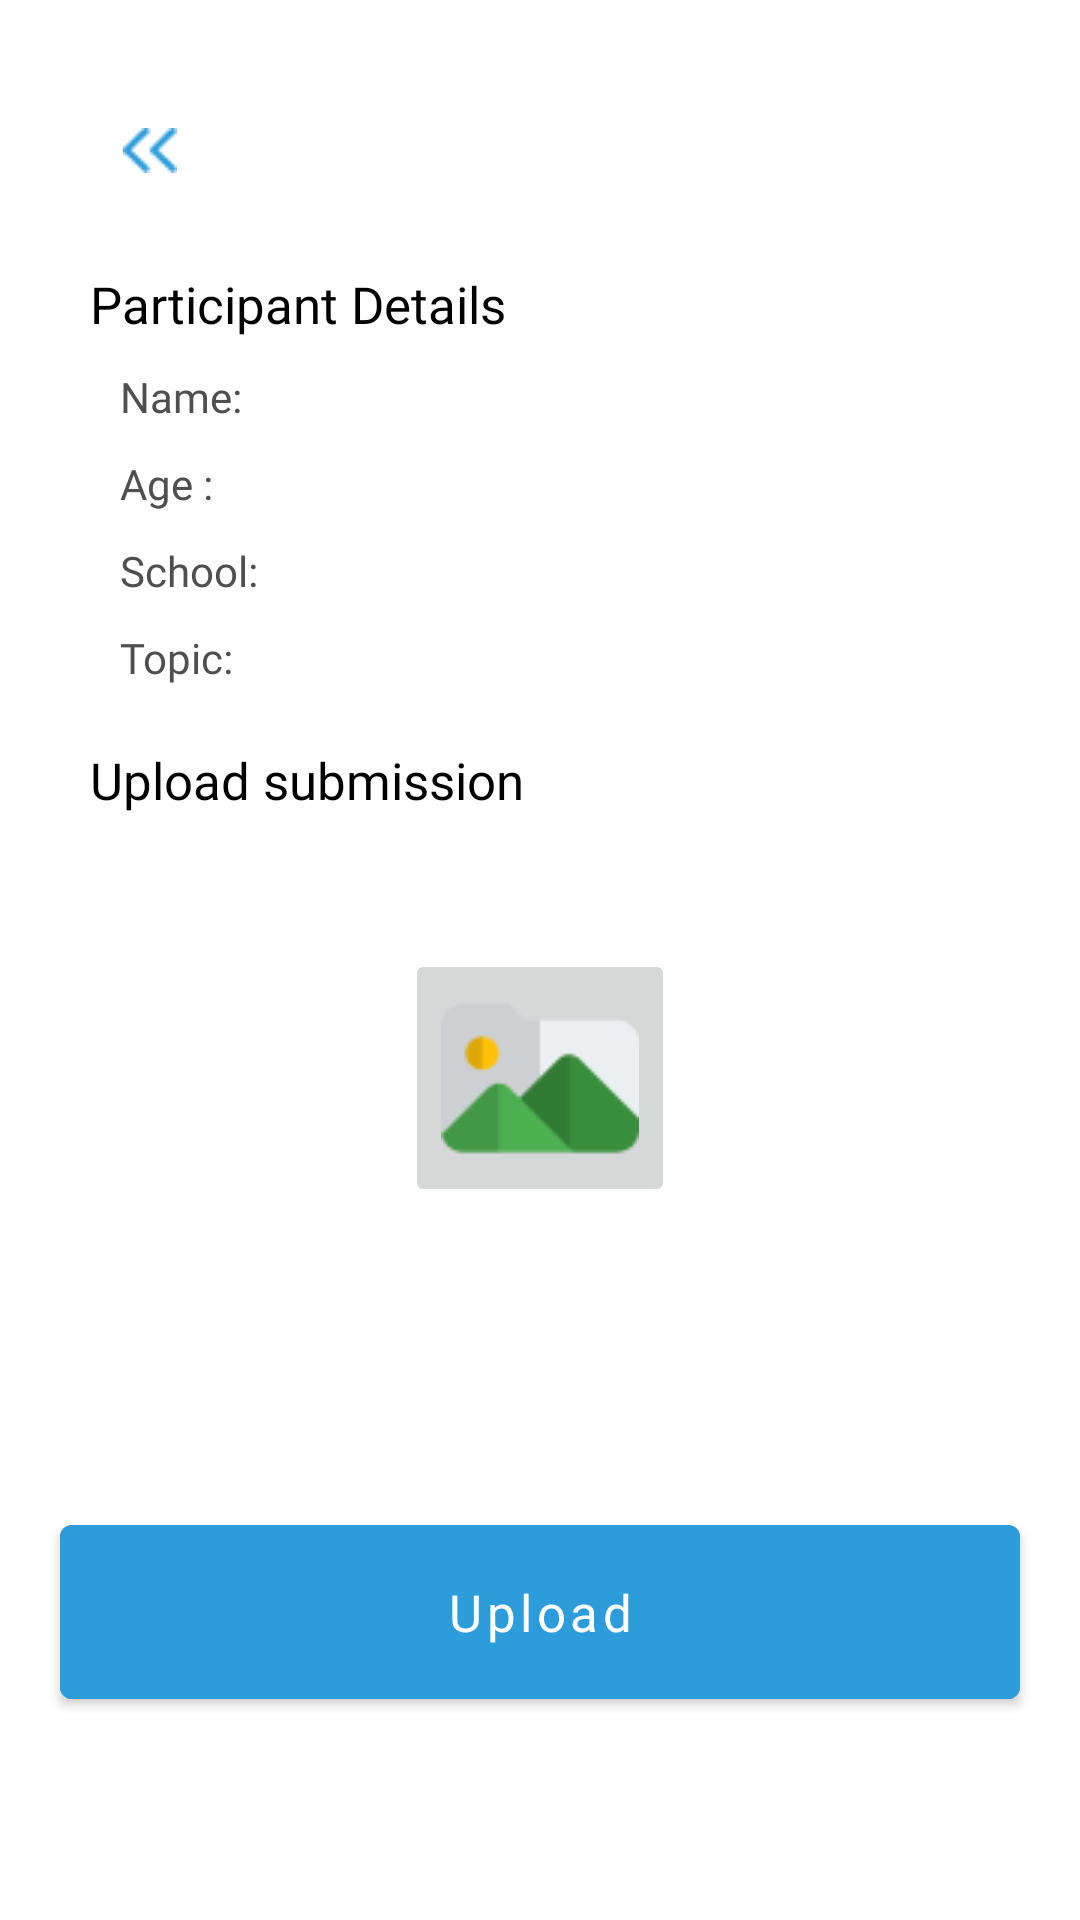

Icon bounding boxes for this 1080 × 1920 phone screenshot, format (x1, y1, x2, y2):
back: (123, 128, 177, 173)
gallery: (417, 967, 663, 1189)
